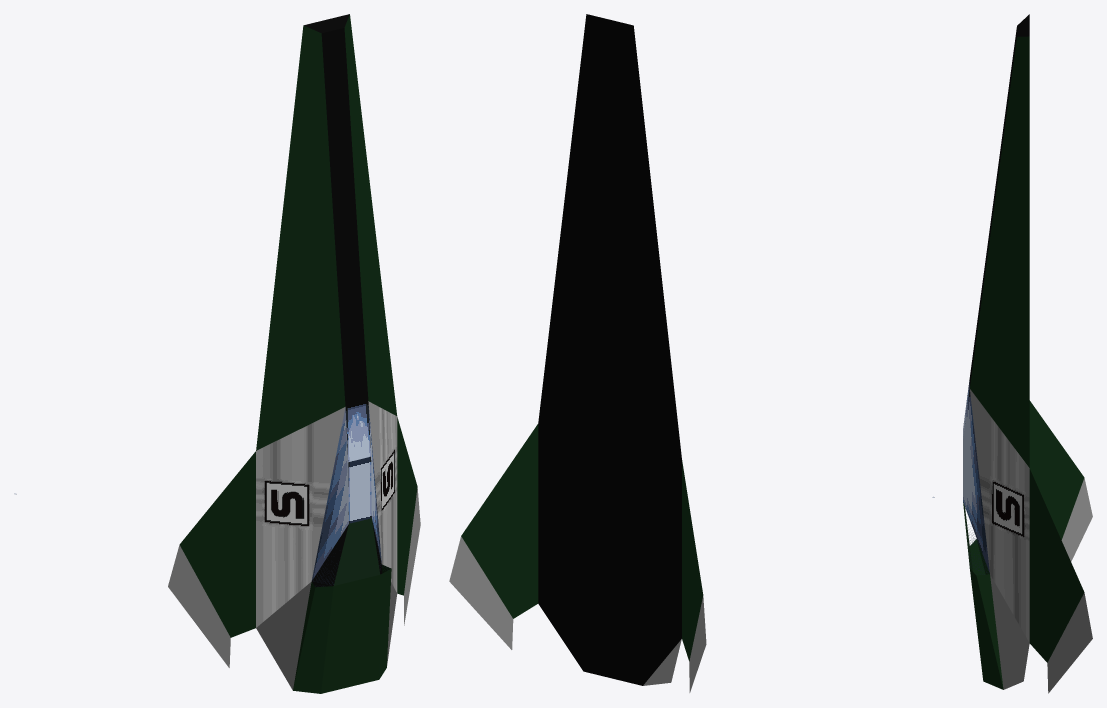
The model's file is reworkShips.fbx.
3 renders of one model, left to right at view 1: azimuth 30°, elevation 25°; view 2: azimuth 150°, elevation 25°; view 3: azimuth 270°, elevation 25°, orthographic. The views are drawn at different scales.
Visible parts, largest first — view 1: solaar; view 2: solaar; view 3: solaar.
Part boxes in pixels (bbox=[...]): solaar: bbox=[14, 14, 420, 693]; solaar: bbox=[449, 14, 934, 692]; solaar: bbox=[963, 14, 1092, 693].
Bounding box in the file's own units: 59698 × 84000 × 15400.
Materials: 6 (2 with a texture image).
